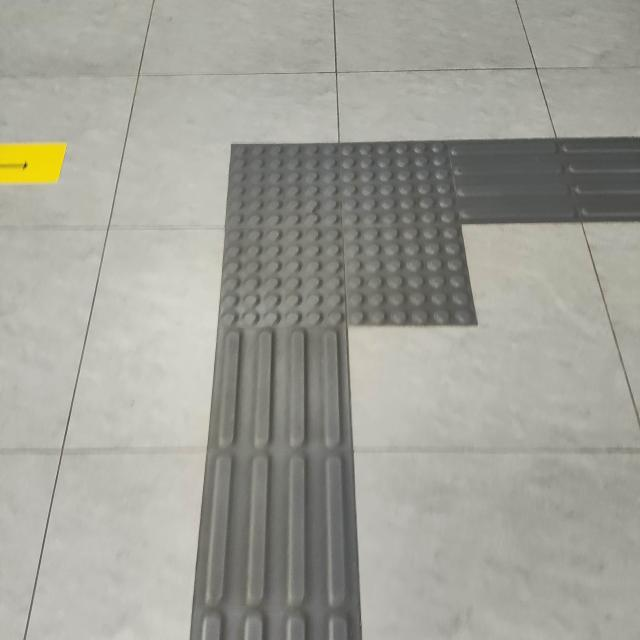kanan: (177, 100, 640, 385)
